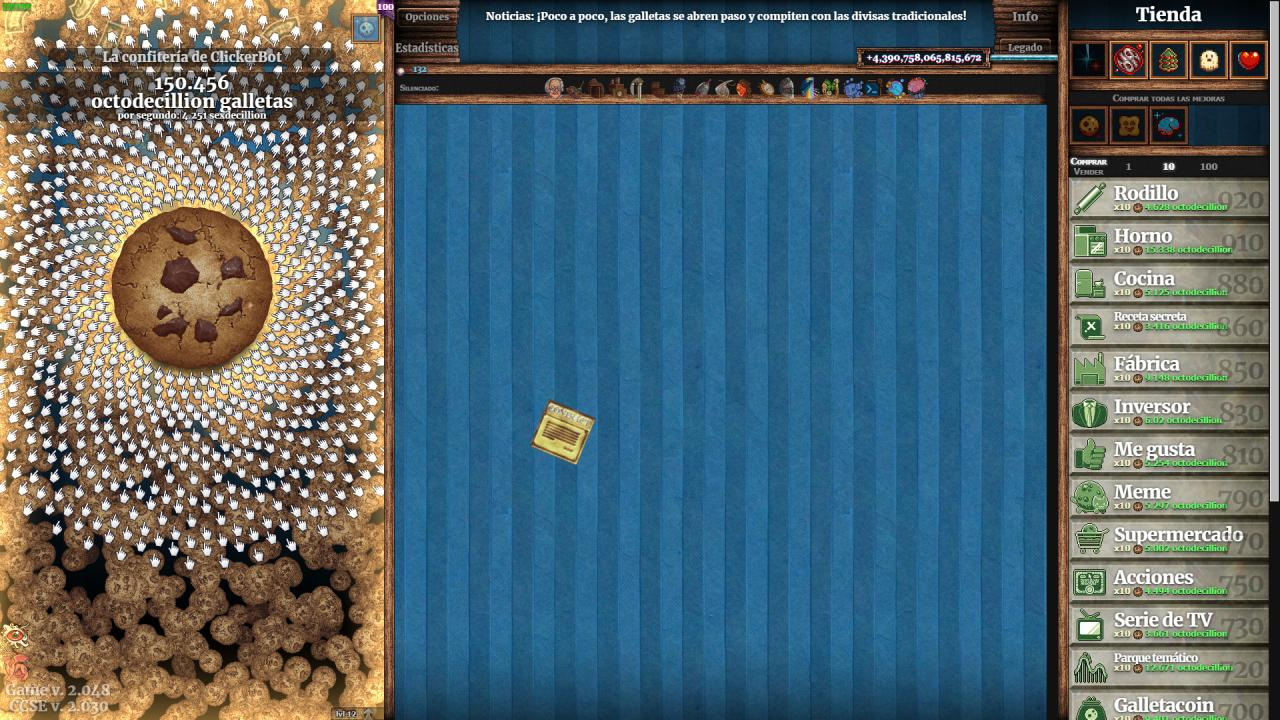GoldenCartridge: (528, 398, 598, 468)
